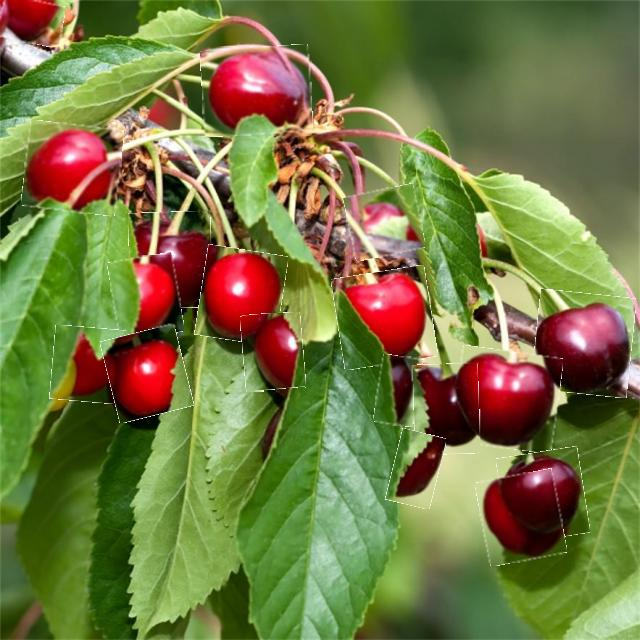cherry: (453, 349, 560, 451), (534, 292, 634, 396), (202, 46, 312, 136), (335, 269, 435, 367), (24, 122, 122, 214), (198, 247, 285, 344), (499, 449, 587, 542), (129, 211, 212, 309), (105, 328, 190, 420), (479, 472, 563, 563), (413, 364, 480, 455), (110, 255, 181, 340), (51, 327, 124, 403), (346, 187, 423, 258), (242, 314, 305, 392), (389, 430, 442, 507), (375, 356, 421, 426), (0, 0, 63, 44)
